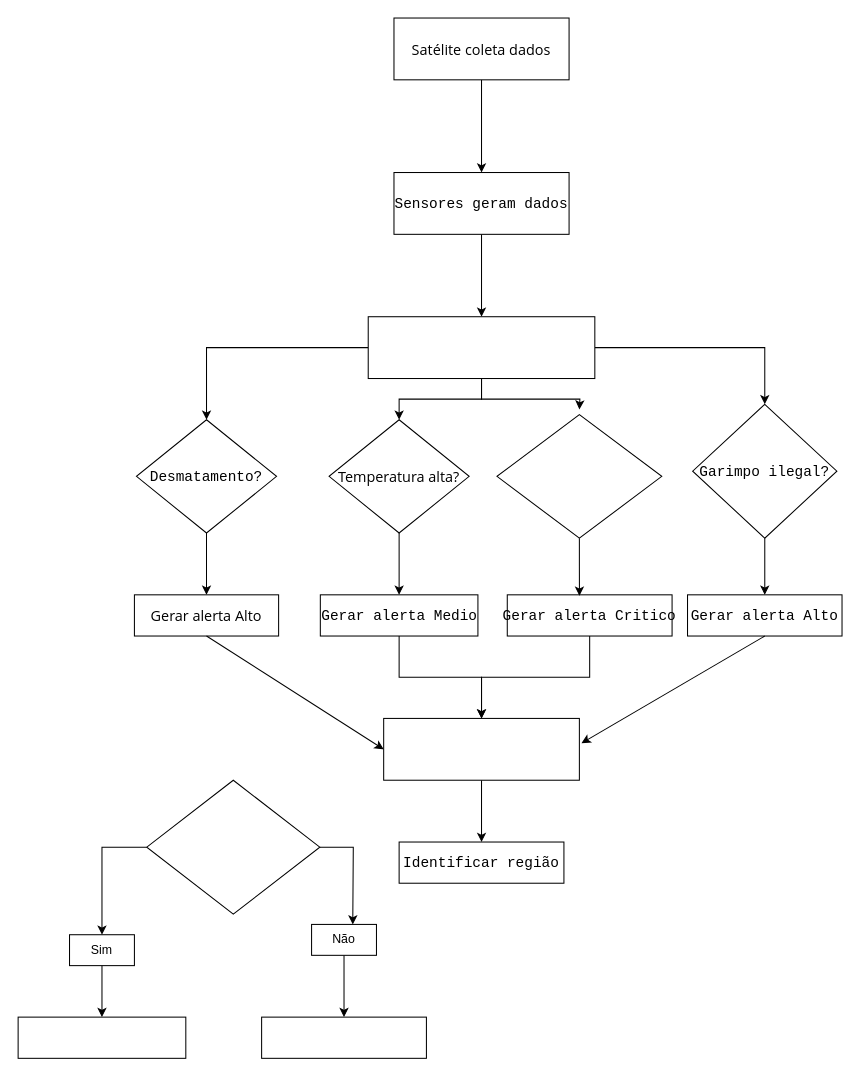
The diagram is 860 pixels wide and 1080 high, and some of its shapes have lost their labels. Each missing label, with the centre of its shape:
Adicionar localização e data: the point at 481,748
Alerta é Alto ou Critico?: the point at 233,846
Dados enviados para análise: the point at 481,347
Enviar para autoridades: the point at 101,1037
Enviar para portais: the point at 343,1037
Fumaça detectada?: the point at 579,476
